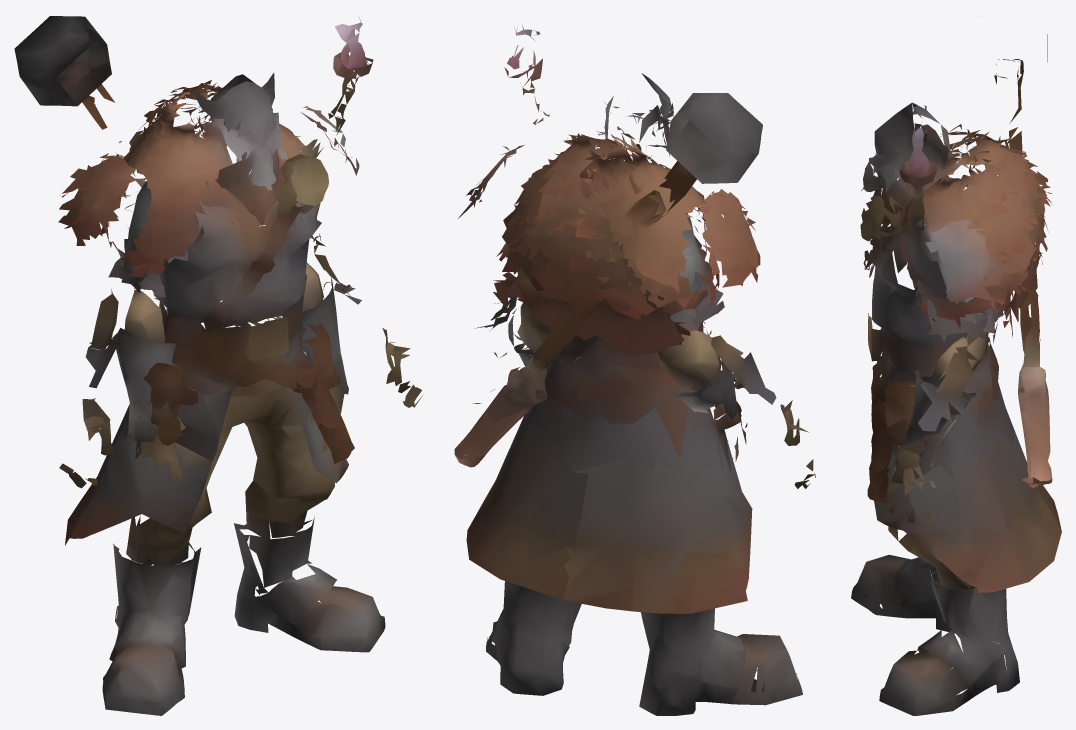
Rendered from gorrin.glb.
3 views of the same model, side by side, from view 1: azimuth 30°, elevation 25°; view 2: azimuth 150°, elevation 25°; view 3: azimuth 270°, elevation 25° (orthographic). The views are drawn at different scales.
Parts seen in each view (by area): view 1: torso, shinR, armL, shinL, thighL, hips, thighR, foreL, armR, foreR; view 2: torso, thighL, thighR, armL, shinL, hips, shinR, foreL, armR, foreR; view 3: torso, thighR, armR, shinR, hips, foreR, shinL, armL, thighL.
Part boxes in pixels (box(x1,y1,x2,y2)): torso: box(14, 16, 410, 422); shinR: box(234, 509, 385, 652); armL: box(106, 87, 254, 262); shinL: box(102, 542, 201, 715); thighL: box(59, 405, 228, 563); hips: box(83, 318, 409, 460); thighR: box(244, 381, 423, 523); foreL: box(101, 224, 185, 481); armR: box(189, 91, 328, 217); foreR: box(272, 205, 348, 452); torso: box(458, 23, 792, 458); thighL: box(563, 436, 815, 613); thighR: box(455, 389, 588, 599); armL: box(574, 109, 709, 311); shinL: box(639, 608, 802, 715); hips: box(454, 352, 808, 472); shinR: box(486, 581, 581, 695); foreL: box(613, 267, 746, 461); armR: box(500, 127, 641, 291); foreR: box(496, 251, 552, 368); torso: box(861, 34, 1052, 459); thighR: box(867, 433, 1061, 592); armR: box(860, 159, 1043, 305); shinR: box(879, 567, 1019, 715); hips: box(871, 382, 1052, 483); foreR: box(888, 291, 1011, 494); shinL: box(851, 555, 955, 633); armL: box(888, 123, 1037, 230); thighL: box(1006, 409, 1061, 531).
Size of the model in its own units: 0.5814 by 1 by 0.3237.
